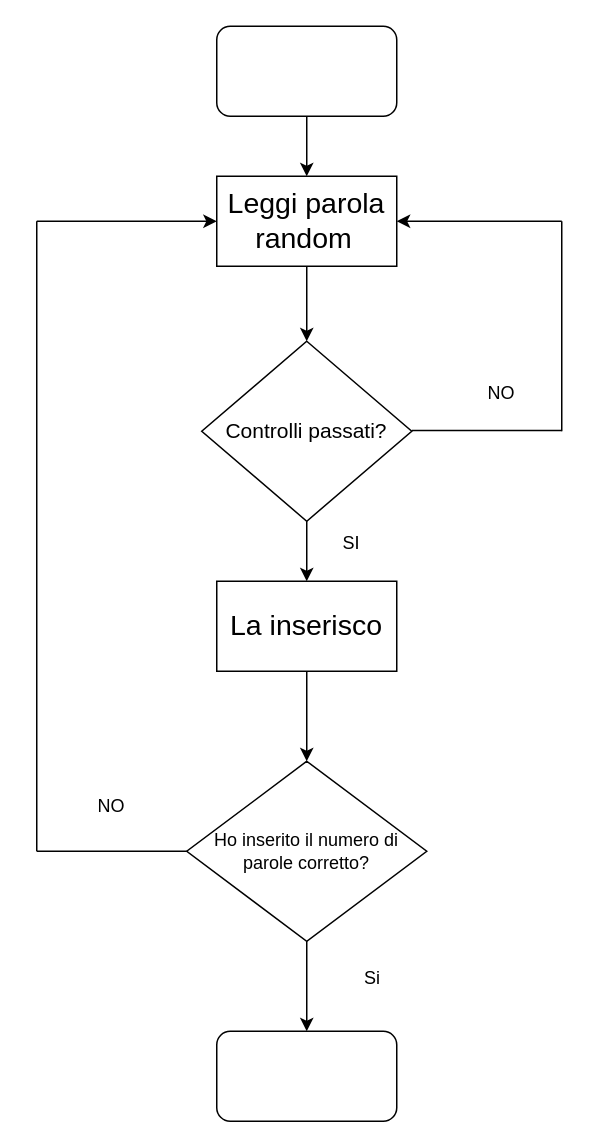
Some shapes in this 600 by 1148 pixel diagram are drawn without their labels. Each missing label, with the centre of its shape:
"Fine" goes at (306,1075).
"Inizio" goes at (306,70).
